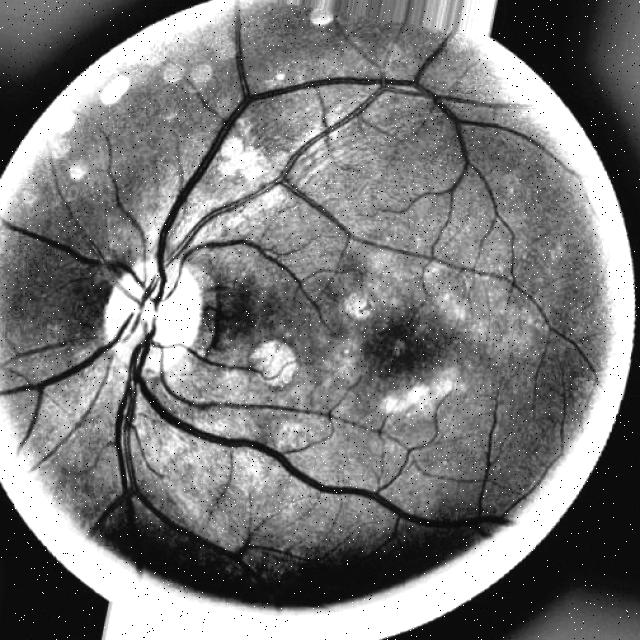Macula: (362, 309, 456, 381)
Nerves: (0, 28, 596, 582)
Optic Disk: (103, 255, 202, 377)
